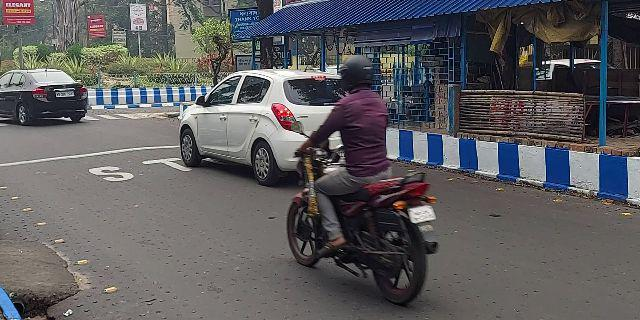Car: (176, 66, 340, 176), (2, 68, 93, 128)
Motorbike: (286, 57, 442, 304)
